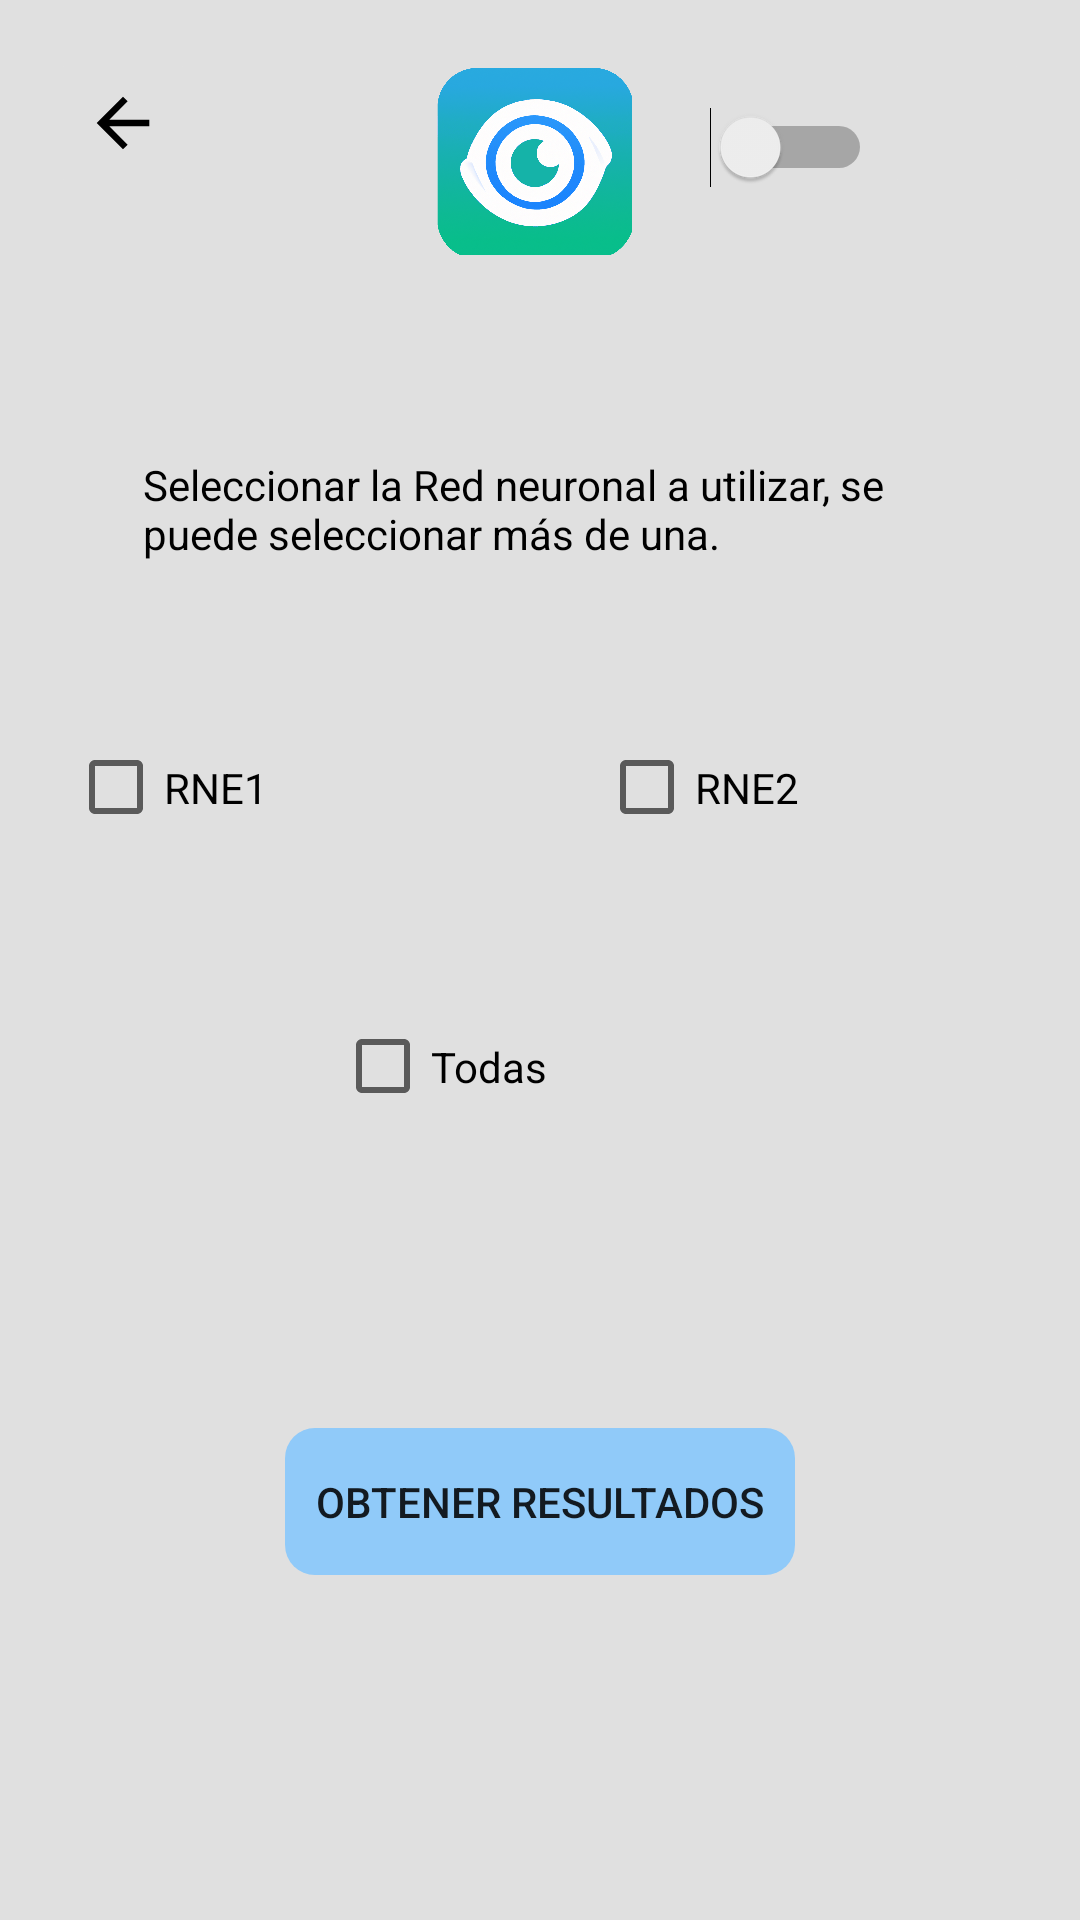

Icons on this 1080×1920 Android screen, each with the point to tap as point (x, y):
back: point (123, 123)
